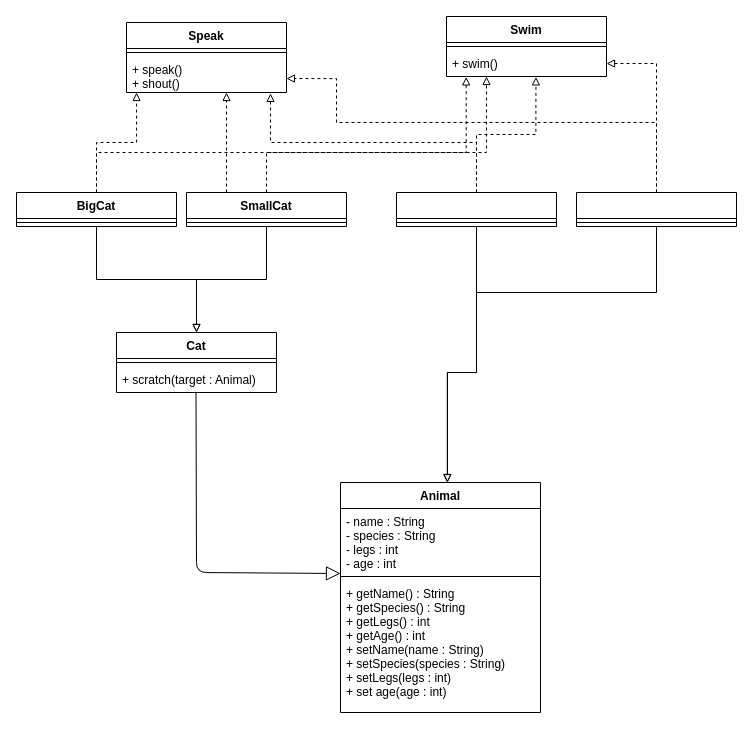
Image size: 753x729. Some labels were removed from this diagram. Here are the shapes that lost their labels. From the top down, the centre of each, then its label:
At [476,209]: "Whale".
At [656,209]: "Fish".
